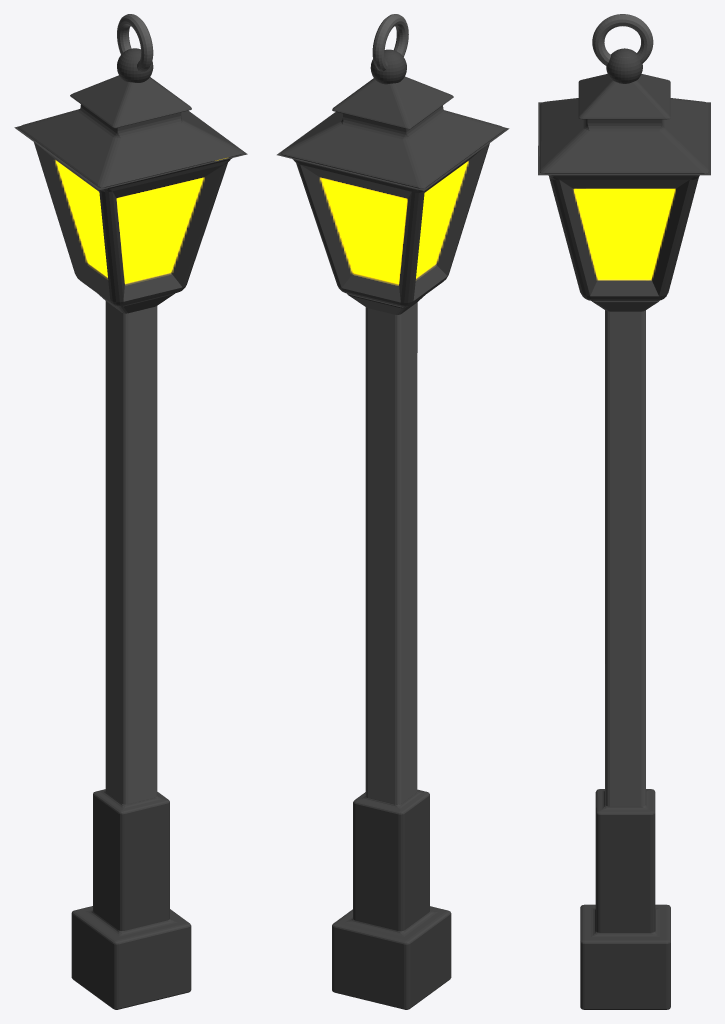
File: den.fbx
3 views of the same model, side by side, from view 1: azimuth 30°, elevation 25°; view 2: azimuth 150°, elevation 25°; view 3: azimuth 270°, elevation 25° (orthographic).
Parts seen in each view (by area): view 1: den; view 2: den; view 3: den.
Part boxes in pixels (x1,y1,x2,y2): den: [14, 14, 247, 1009]; den: [277, 14, 509, 1009]; den: [538, 14, 710, 1009].
Size of the model in its own units: 47.98 by 300 by 48.05.
Materials: 1 (1 with a texture image).
